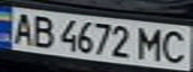2: (109, 22, 136, 60)
4: (54, 17, 78, 53)
6: (75, 19, 96, 55)
7: (90, 20, 115, 56)
A: (6, 10, 39, 45)
B: (27, 12, 57, 48)
C: (157, 27, 193, 64)
M: (136, 25, 169, 62)
